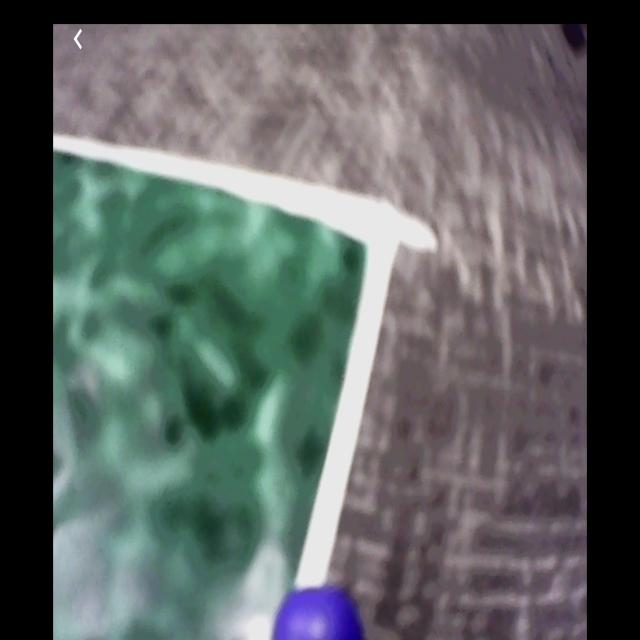ball: (274, 584, 367, 640)
